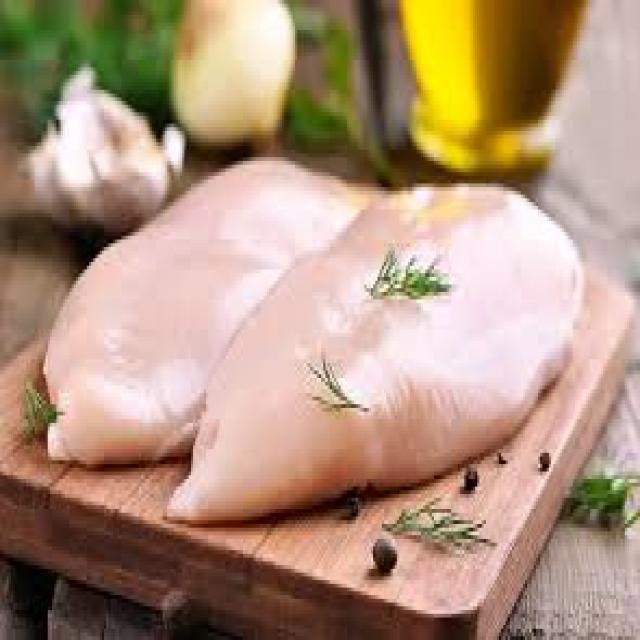Chicken: (312, 200, 602, 452), (8, 158, 254, 438)
